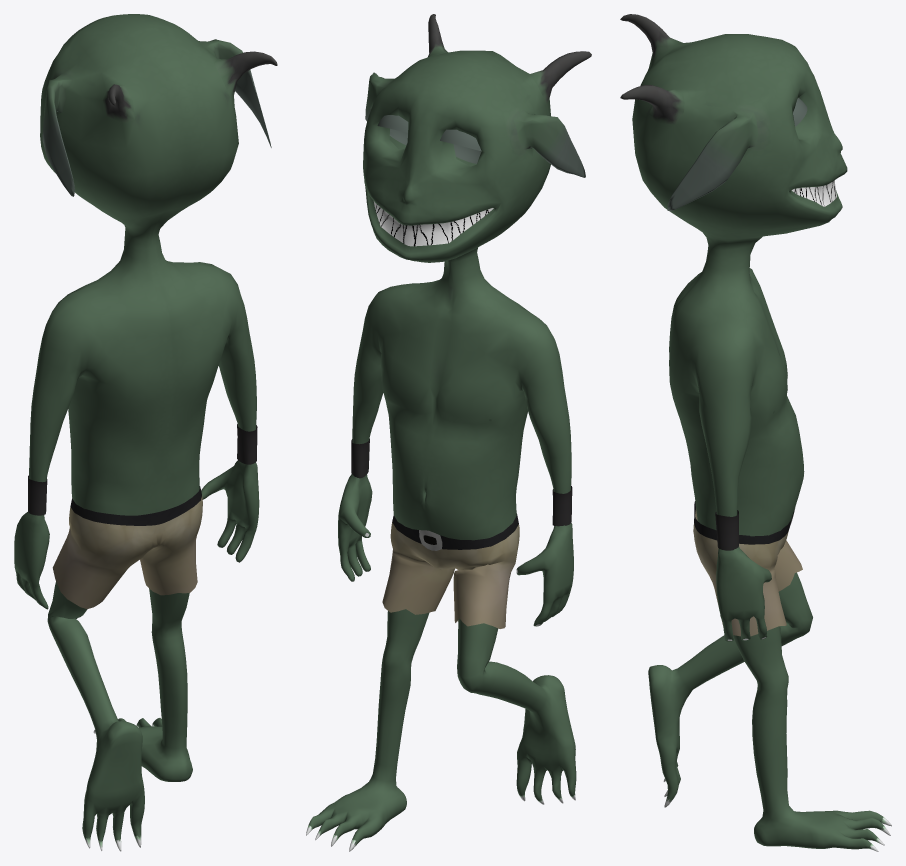
The model's file is lwjglcharactergoblin10_000009.obj.
3 views of the same model, side by side, from view 1: azimuth 30°, elevation 25°; view 2: azimuth 150°, elevation 25°; view 3: azimuth 270°, elevation 25° (orthographic). The views are drawn at different scales.
Visible parts, largest first — view 1: Cube.002; view 2: Cube.002; view 3: Cube.002.
Part boxes in pixels (x1,y1,x2,y2): Cube.002: [14, 14, 277, 851]; Cube.002: [306, 14, 591, 851]; Cube.002: [620, 14, 891, 851].
Size of the model in its own units: 1.18 by 3.83 by 1.21.
